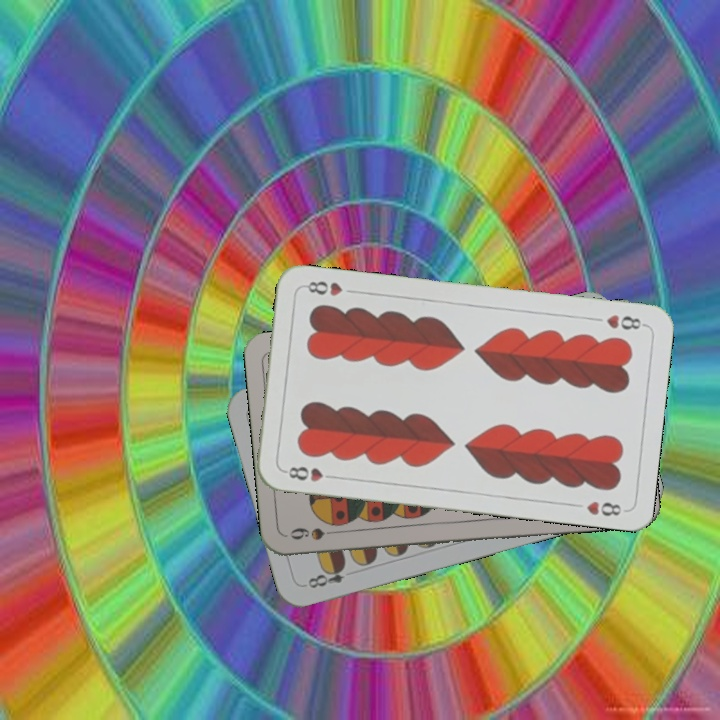E8: (301, 560, 348, 591)
H8: (280, 462, 339, 484), (602, 310, 648, 332)
S9: (285, 523, 344, 543)
